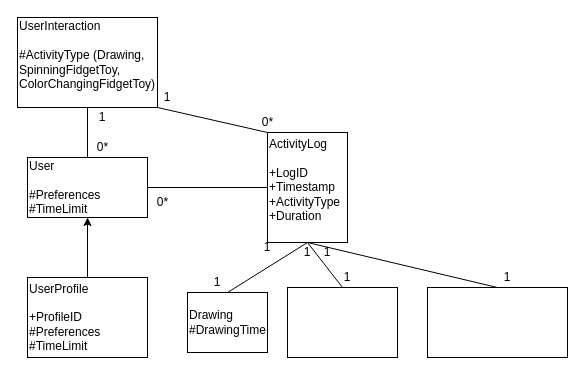
This 585x375 diagram has some shape labels left out. The centre of each missing label's shape, as x and y in pixels:
ColorChangingFidgetToy #TimesClicked: pixel 497 322
SpinningFidgetToy #SpinDuration: pixel 342 322
